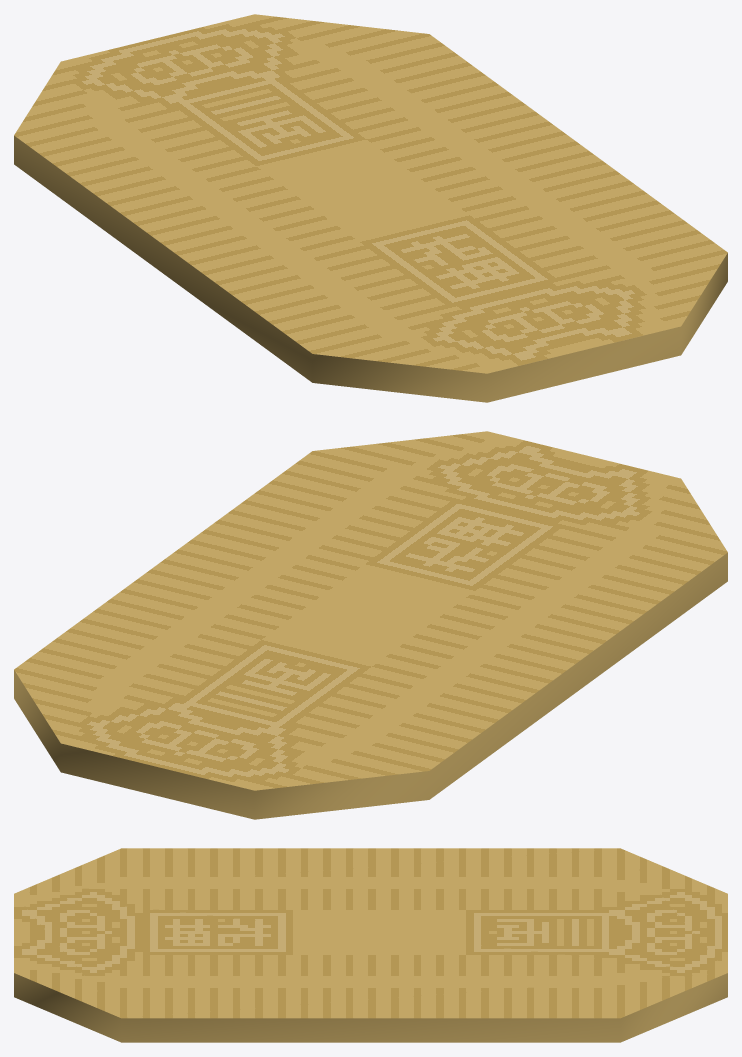
Rendered from 02f4_Old_Coin.glb.
The picture shows the model from 3 angles, top to bottom: view 1: azimuth 30°, elevation 25°; view 2: azimuth 150°, elevation 25°; view 3: azimuth 270°, elevation 25°; orthographic projection. The views are drawn at different scales.
Visible parts, largest first — view 1: part_0; view 2: part_0; view 3: part_0.
Boxes of the visible parts, left/top/right/bottom form: part_0: left=14, top=14, right=727, bottom=402; part_0: left=14, top=431, right=727, bottom=819; part_0: left=14, top=848, right=727, bottom=1042.
Bounding box in the file's own units: 0.045 × 0.003 × 0.08.
1 material, 1 textured.
